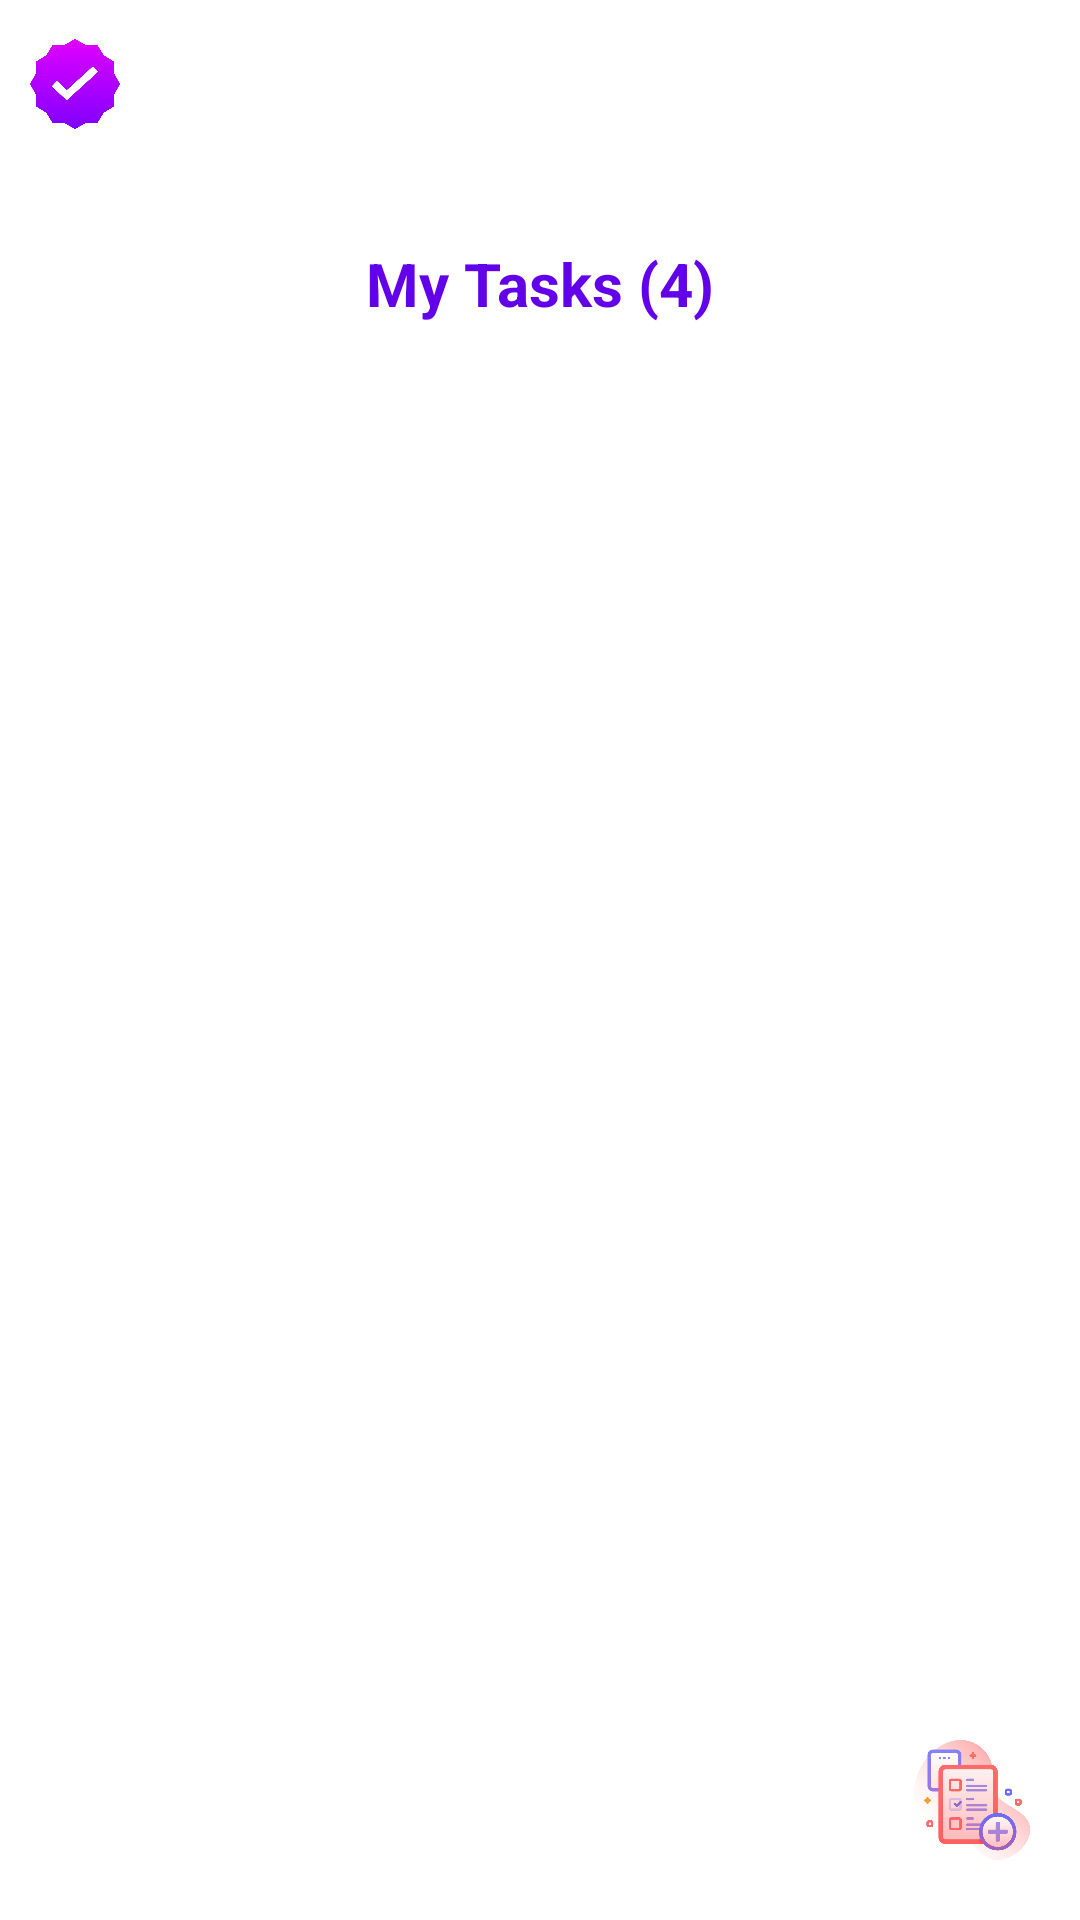

Named icons in this screenshot (1080*1920) and their bounding boxes, (x1, y1, x2, y2):
add task: (923, 1740, 1030, 1854)
task: (30, 39, 120, 129)
